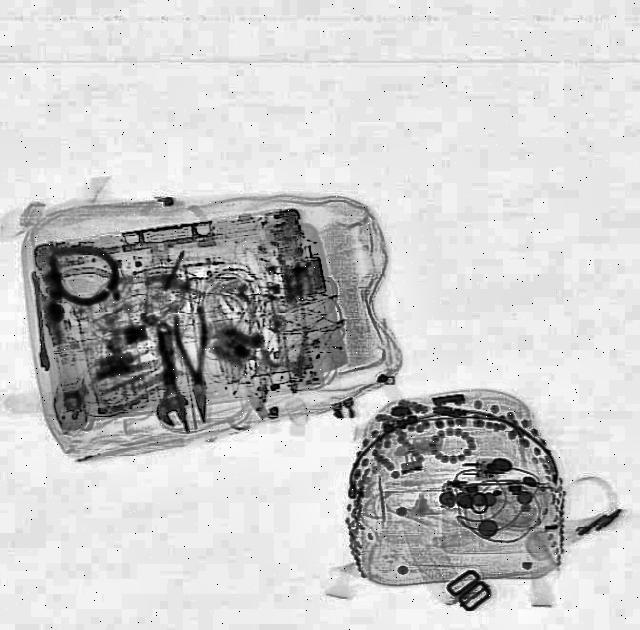Pliers: (165, 303, 221, 425)
Wrench: (140, 318, 190, 428), (28, 266, 50, 372)
